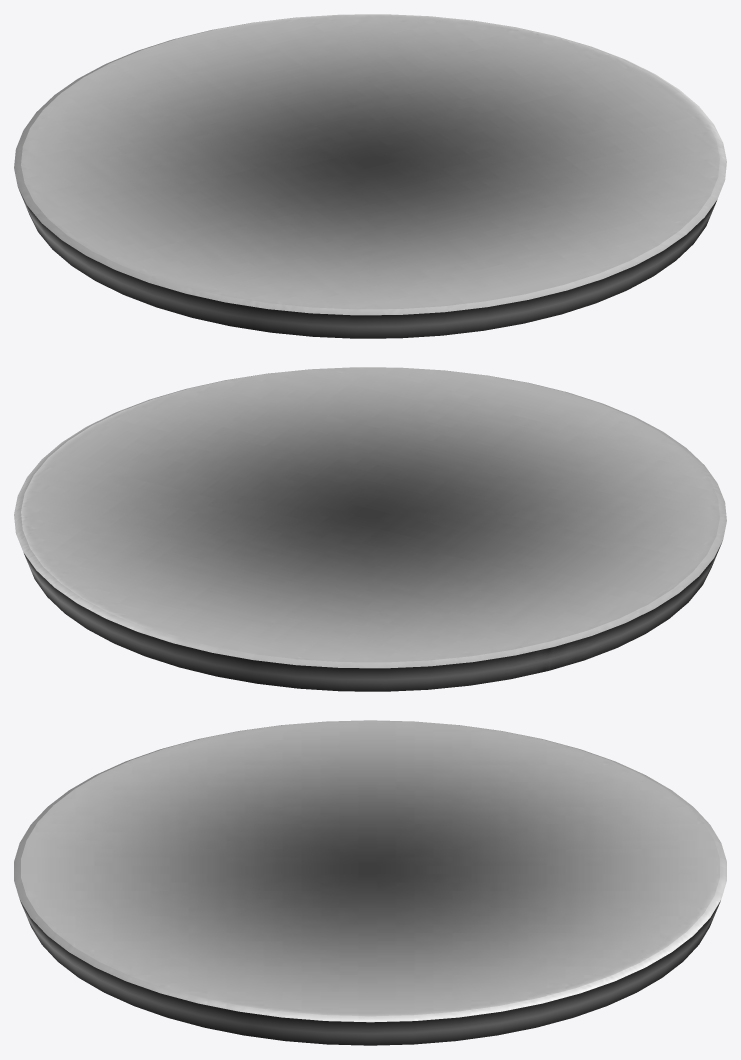
The model's file is CirclePlate.gltf.
The picture shows the model from 3 angles, top to bottom: view 1: azimuth 30°, elevation 25°; view 2: azimuth 150°, elevation 25°; view 3: azimuth 270°, elevation 25°; orthographic projection.
Parts seen in each view (by area): view 1: win006; view 2: win006; view 3: win006.
Part boxes in pixels (bbox=[...]): win006: bbox=[14, 14, 726, 338]; win006: bbox=[14, 367, 726, 691]; win006: bbox=[14, 720, 726, 1045].
Bounding box in the file's own units: 103 × 5 × 103.
Materials: 1 (1 with a texture image).
